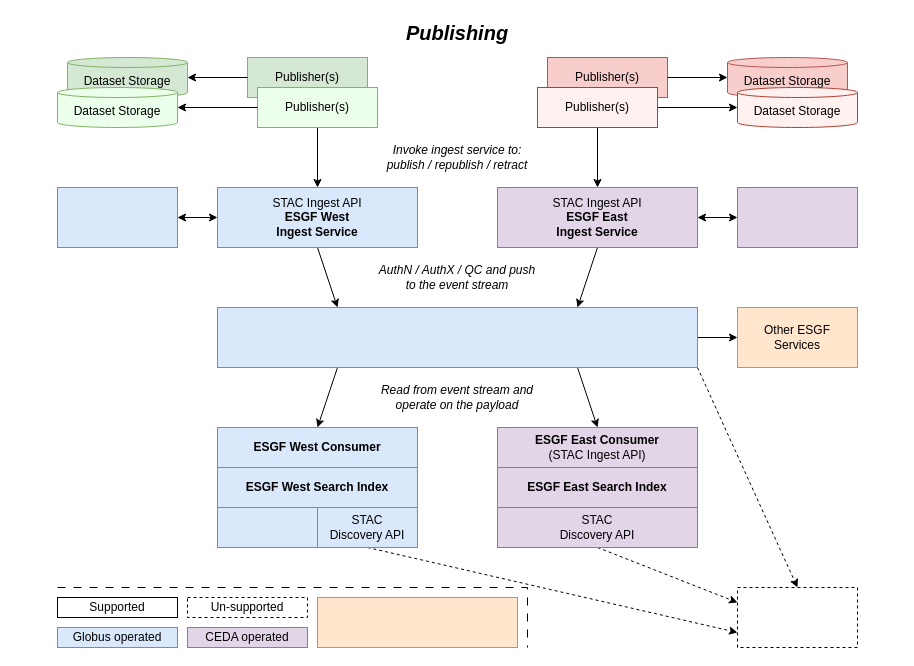
Image size: 914x666. Some labels were removed from this diagram. Each missing label, with the centre of its shape:
"EGI CheckIn and Groups" belongs at (x=797, y=217).
"Federation wide event stream" belongs at (x=457, y=337).
"Globus Auth and Groups" belongs at (x=117, y=217).
"Globus Discovery API" belongs at (x=267, y=527).
"Other external services, including custom indices" belongs at (x=797, y=617).
"Other federation members operated (e.g. Citation service)" belongs at (x=417, y=622).
